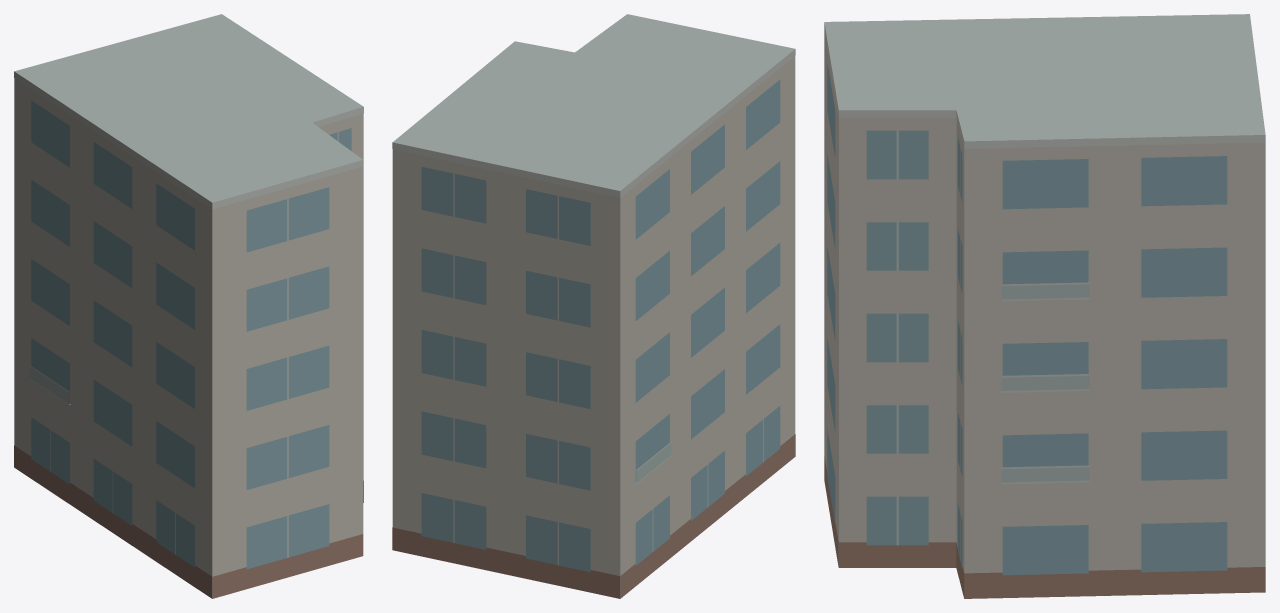
The model's file is survey-upis-32915251.glb.
3 renders of one model, left to right at view 1: azimuth 30°, elevation 25°; view 2: azimuth 150°, elevation 25°; view 3: azimuth 270°, elevation 25°, orthographic. The views are drawn at different scales.
Parts seen in each view (by area): view 1: survey-upis-32915251.tmp; view 2: survey-upis-32915251.tmp; view 3: survey-upis-32915251.tmp.
Part boxes in pixels (box(x1,y1,x2,y2)): survey-upis-32915251.tmp: box(14, 14, 363, 598); survey-upis-32915251.tmp: box(392, 14, 795, 598); survey-upis-32915251.tmp: box(824, 14, 1265, 598).
Size of the model in its own units: 8.85 by 14.8 by 12.95.
